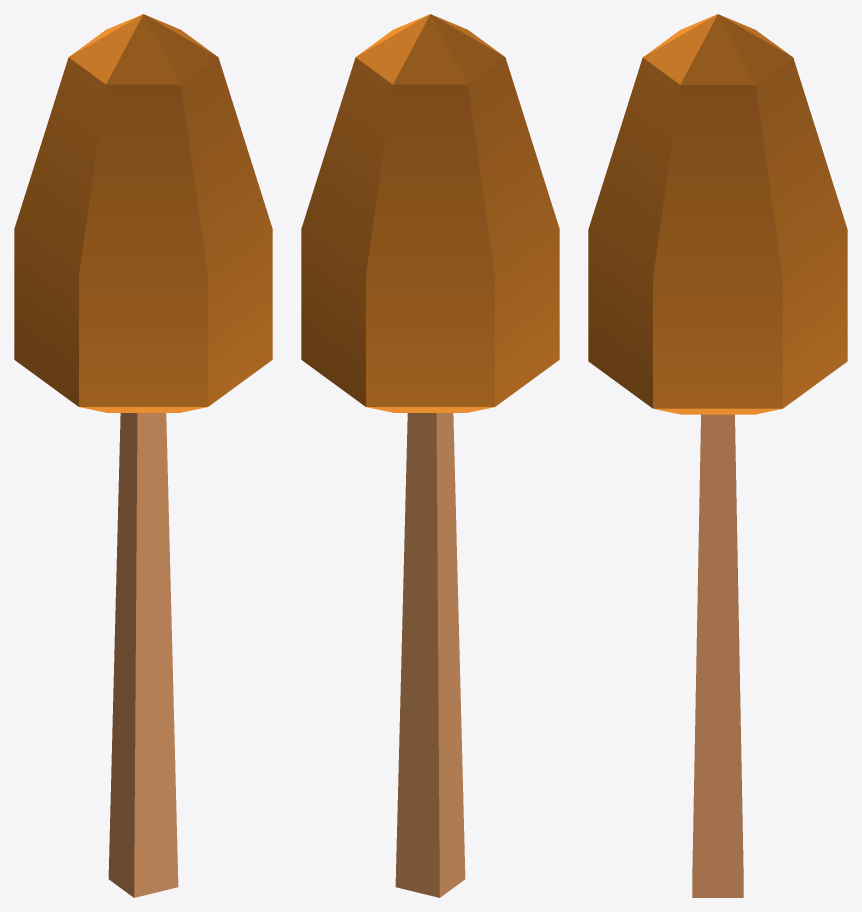
Rendered from tree_simple_fall.obj.
3 views of the same model, side by side, from view 1: azimuth 30°, elevation 25°; view 2: azimuth 150°, elevation 25°; view 3: azimuth 270°, elevation 25° (orthographic).
Visible parts, largest first — view 1: tree_simple_fall; view 2: tree_simple_fall; view 3: tree_simple_fall.
Part boxes in pixels (x1,y1,x2,y2): tree_simple_fall: (14, 14, 272, 897); tree_simple_fall: (301, 14, 559, 897); tree_simple_fall: (588, 14, 847, 897).
Size of the model in its own units: 3.55 by 15.19 by 4.09.
